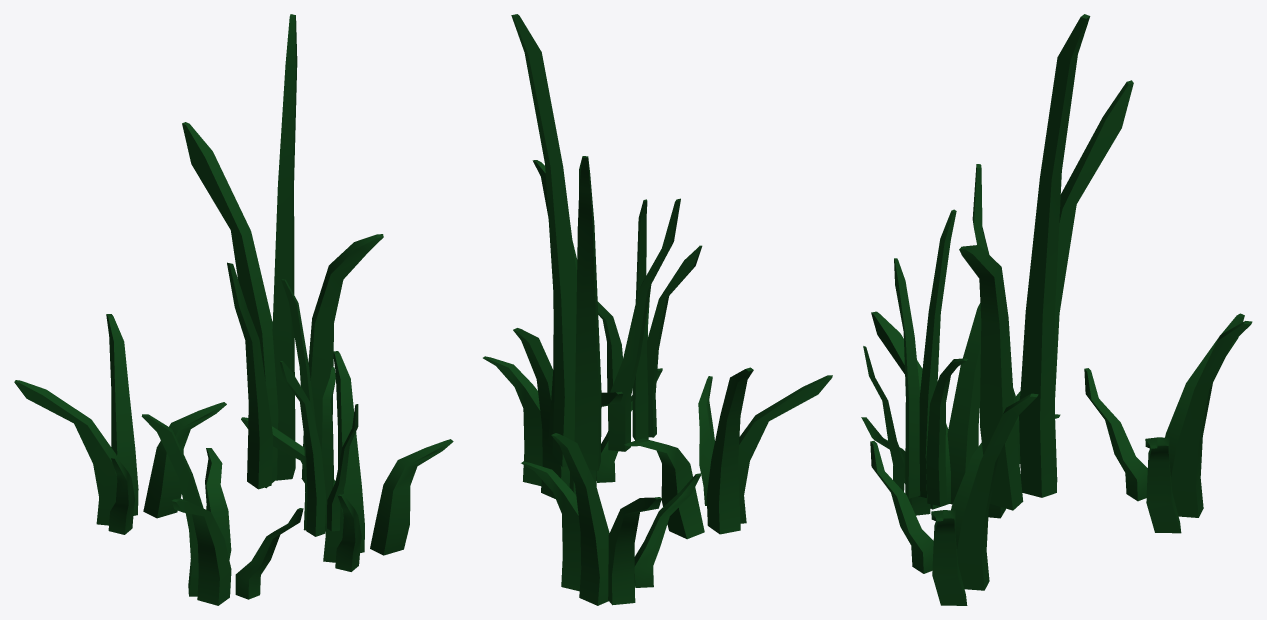
The model's file is Grass7.fbx.
The picture shows the model from 3 angles, left to right: view 1: azimuth 30°, elevation 25°; view 2: azimuth 150°, elevation 25°; view 3: azimuth 270°, elevation 25°; orthographic projection. The views are drawn at different scales.
Visible parts, largest first — view 1: Grass1; view 2: Grass1; view 3: Grass1.
Boxes of the visible parts, x1,y1,x2,y2 form: Grass1: [14, 14, 453, 605]; Grass1: [483, 14, 832, 605]; Grass1: [861, 14, 1252, 605].
Bounding box in the file's own units: 0.9424 × 1.46 × 0.9158.
